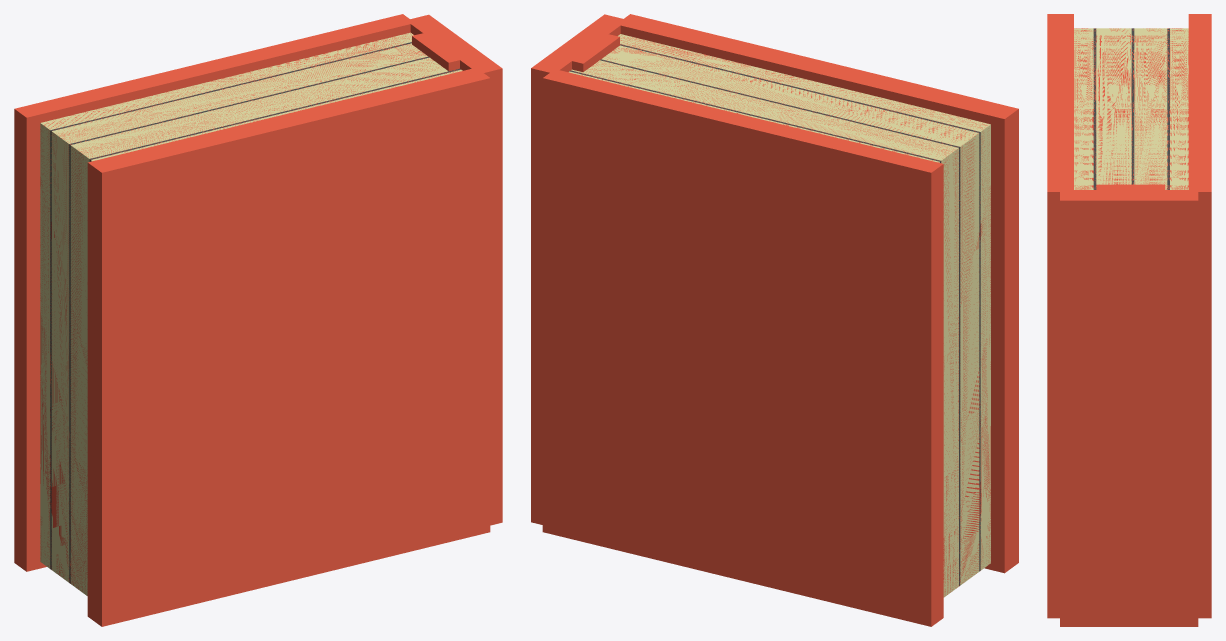
Rendered from RedBook.dae.
The picture shows the model from 3 angles, left to right: view 1: azimuth 30°, elevation 25°; view 2: azimuth 150°, elevation 25°; view 3: azimuth 270°, elevation 25°; orthographic projection. The views are drawn at different scales.
Visible parts, largest first — view 1: Book_1 (×8); view 2: Book_1 (×8); view 3: Book_1 (×8).
Part boxes in pixels (x1,y1,x2,y2): Book_1 (×8): (14, 14, 502, 626); Book_1 (×8): (531, 14, 1018, 626); Book_1 (×8): (1047, 14, 1211, 626).
Bounding box in the file's own units: 9.66 × 3.6 × 10.29.
